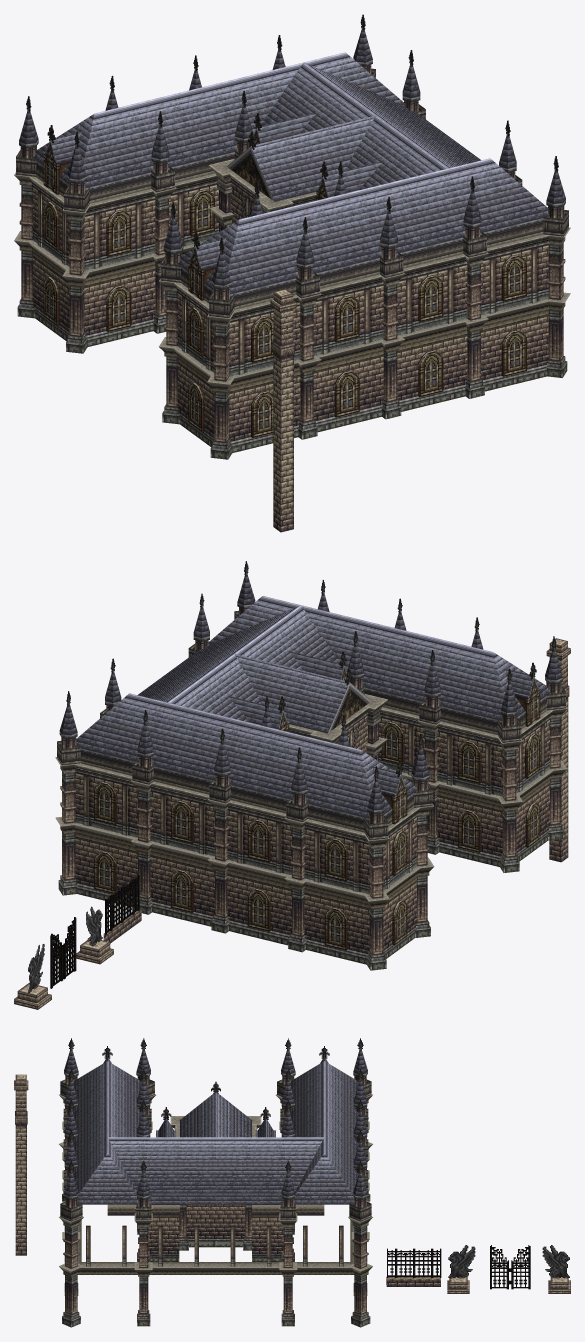
File: ObjMD_School_A.FBX
3 views of the same model, one above another, from view 1: azimuth 30°, elevation 25°; view 2: azimuth 150°, elevation 25°; view 3: azimuth 270°, elevation 25° (orthographic). The views are drawn at different scales.
Parts seen in each view (by area): view 1: ObjMD_School_A, ObjMD_School_Gate_M; view 2: ObjMD_School_A, ObjMD_School_Gate_M, ObjMD_School_Fence, ObjMD_School_Gate_L_R_School, ObjMD_School_Gate_L_L_School, ObjMD_School_Gate_Door_R, ObjMD_School_Gate_Door_L; view 3: ObjMD_School_A, ObjMD_School_Gate_M, ObjMD_School_Fence, ObjMD_School_Gate_L_L_School, ObjMD_School_Gate_L_R_School, ObjMD_School_Gate_Door_R, ObjMD_School_Gate_Door_L.
Part boxes in pixels (<box>): ObjMD_School_A: <box>14,14,570,459</box>; ObjMD_School_Gate_M: <box>270,289,296,532</box>; ObjMD_School_A: <box>55,561,567,970</box>; ObjMD_School_Gate_M: <box>546,638,570,862</box>; ObjMD_School_Fence: <box>103,875,141,943</box>; ObjMD_School_Gate_L_R_School: <box>14,944,51,1009</box>; ObjMD_School_Gate_L_L_School: <box>76,906,113,964</box>; ObjMD_School_Gate_Door_R: <box>50,933,63,988</box>; ObjMD_School_Gate_Door_L: <box>63,917,76,979</box>; ObjMD_School_A: <box>59,1038,372,1327</box>; ObjMD_School_Gate_M: <box>14,1074,28,1255</box>; ObjMD_School_Fence: <box>386,1248,441,1286</box>; ObjMD_School_Gate_L_L_School: <box>447,1245,475,1293</box>; ObjMD_School_Gate_L_R_School: <box>542,1245,570,1293</box>; ObjMD_School_Gate_Door_R: <box>510,1245,530,1289</box>; ObjMD_School_Gate_Door_L: <box>490,1245,510,1289</box>.
Size of the model in its own units: 1741 by 1266 by 3082.
